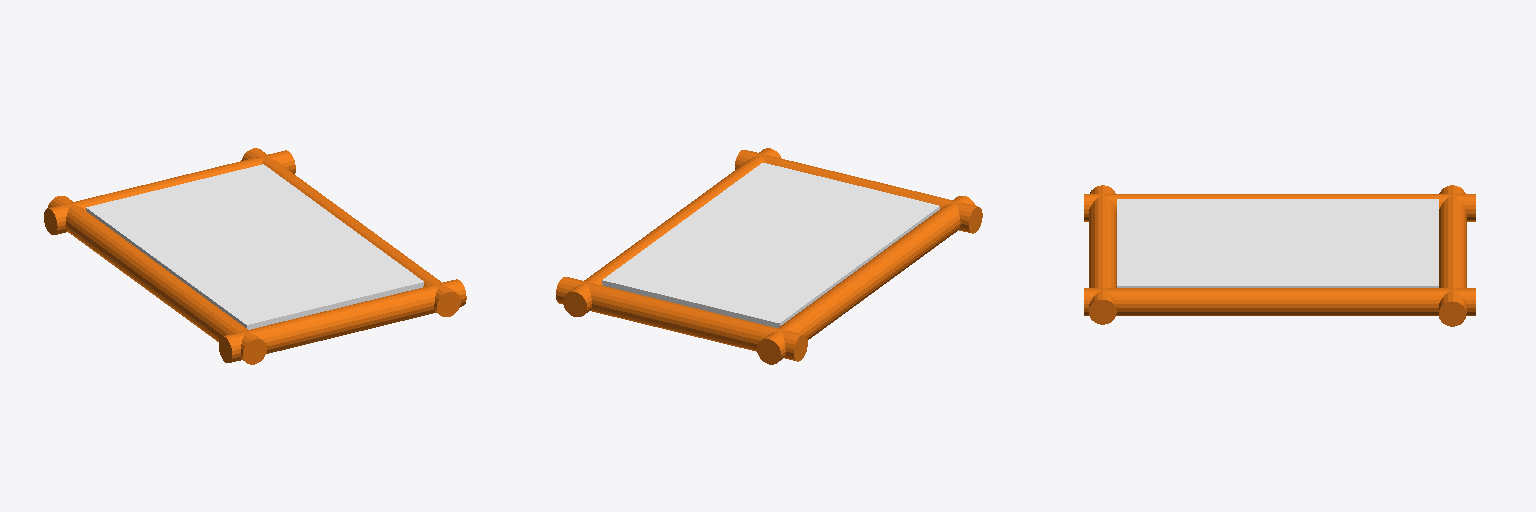
The model's file is tinker.obj.
3 views of the same model, side by side, from view 1: azimuth 30°, elevation 25°; view 2: azimuth 150°, elevation 25°; view 3: azimuth 270°, elevation 25° (orthographic).
Parts seen in each view (by area): view 1: obj_0; view 2: obj_0; view 3: obj_0.
Boxes of the visible parts, <box> form: obj_0: <box>44,148,466,364</box>; obj_0: <box>556,148,982,364</box>; obj_0: <box>1084,185,1475,326</box>.
Bounding box in the file's own units: 59 × 6 × 84.